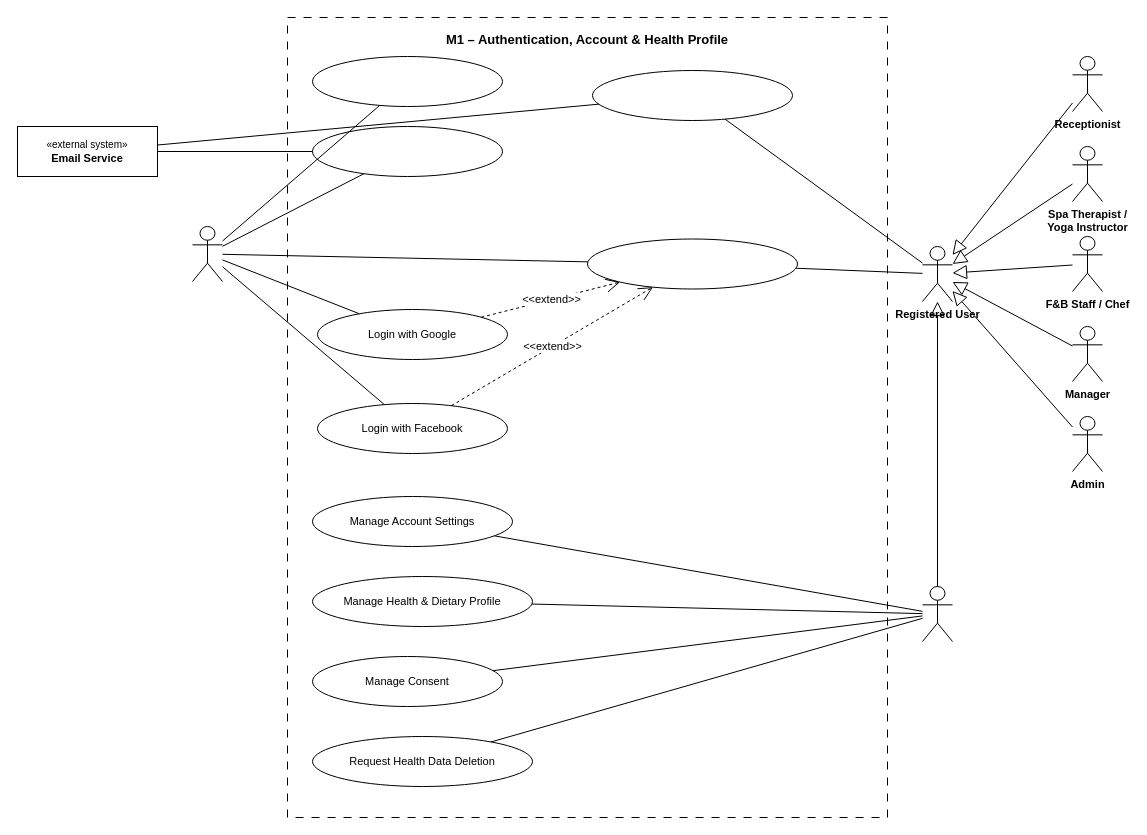
Some shapes in this 1147 by 835 pixel diagram are drawn without their labels. Each missing label, with the centre of its shape:
"Customer" goes at (x=937, y=614).
"Forgot / Reset Password" goes at (x=692, y=95).
"Guest" goes at (x=207, y=254).
"Login" goes at (x=692, y=263).
"Register Account" goes at (x=407, y=81).
"Verify Email" goes at (x=407, y=151).
